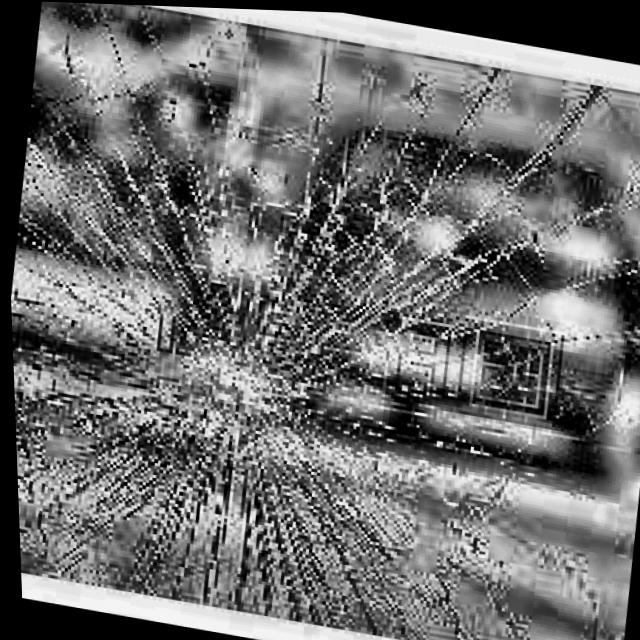glass_shatter: (69, 223, 421, 549)
